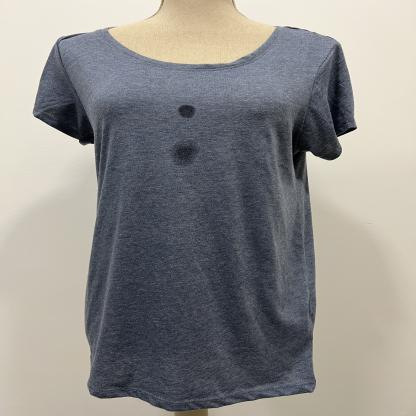stain: (168, 138, 202, 167), (175, 103, 198, 119)
